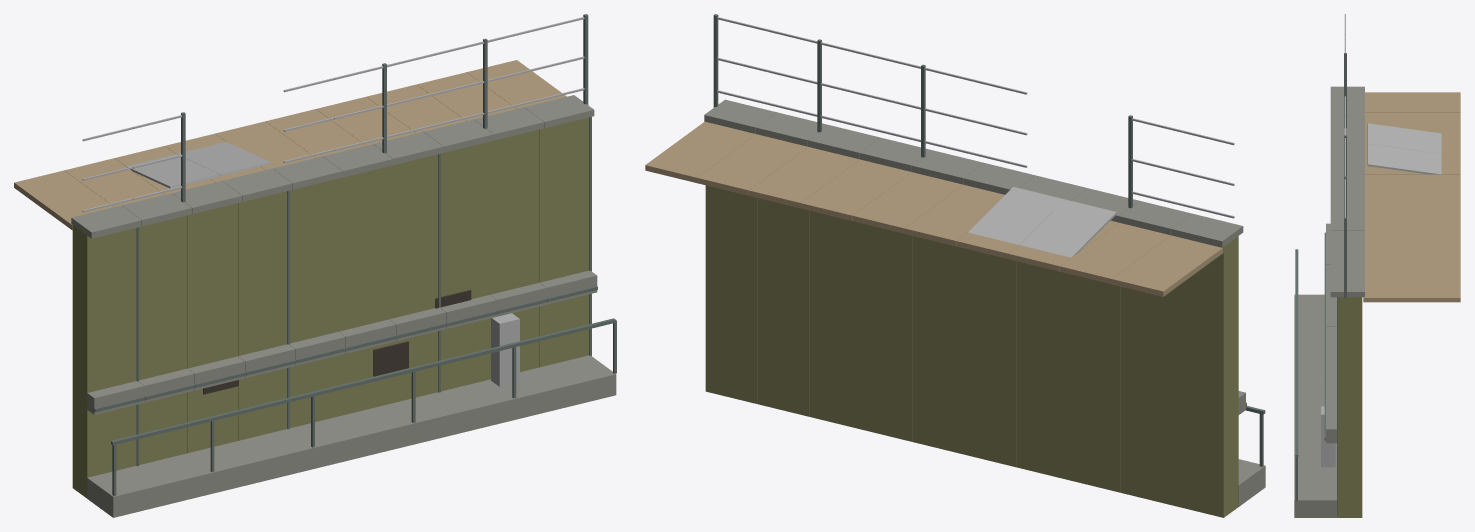
Rendered from SM_MuroRampa_v3_Pasillo_e1_Danado_LOD0.fbx.
The picture shows the model from 3 angles, left to right: view 1: azimuth 30°, elevation 25°; view 2: azimuth 150°, elevation 25°; view 3: azimuth 270°, elevation 25°; orthographic projection. The views are drawn at different scales.
Parts seen in each view (by area): view 1: SM_muro_rampa_v13_LOD0; view 2: SM_muro_rampa_v13_LOD0; view 3: SM_muro_rampa_v13_LOD0.
Part boxes in pixels (x1=…): SM_muro_rampa_v13_LOD0: x1=14, y1=14, x2=616, y2=517; SM_muro_rampa_v13_LOD0: x1=645, y1=14, x2=1265, y2=517; SM_muro_rampa_v13_LOD0: x1=1294, y1=14, x2=1460, y2=517.
Bounding box in the file's own units: 10.03 × 6.8 × 3.42.
